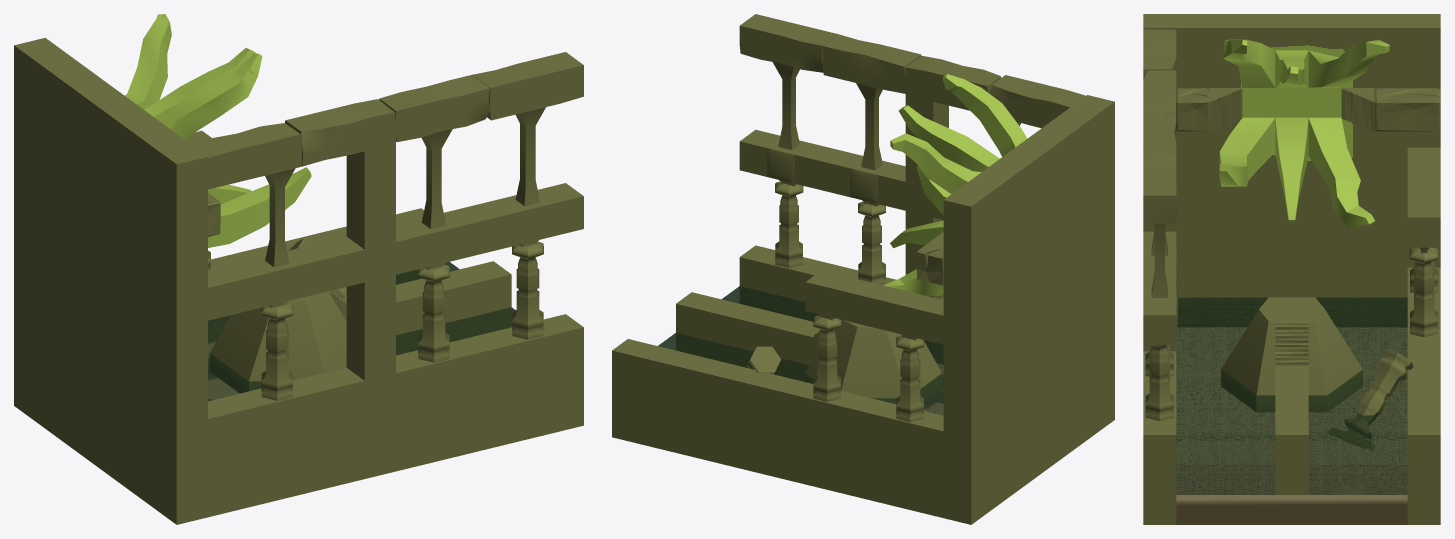
File: env.fbx
3 renders of one model, left to right at view 1: azimuth 30°, elevation 25°; view 2: azimuth 150°, elevation 25°; view 3: azimuth 270°, elevation 25°, orthographic. The views are drawn at different scales.
Visible parts, largest first — view 1: env, water; view 2: env, water; view 3: env, water, ground.
Part boxes in pixels (x1,y1,x2,y2): env: (14,14,583,524); water: (208,262,515,401); env: (612,14,1114,524); water: (658,286,943,415); env: (1143,14,1440,524); water: (1176,297,1407,494); ground: (1176,327,1407,524).
Size of the model in its own units: 13 by 12.16 by 9.
3 materials, 2 textured.
